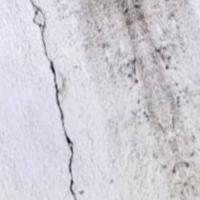crack: (26, 0, 98, 199)
